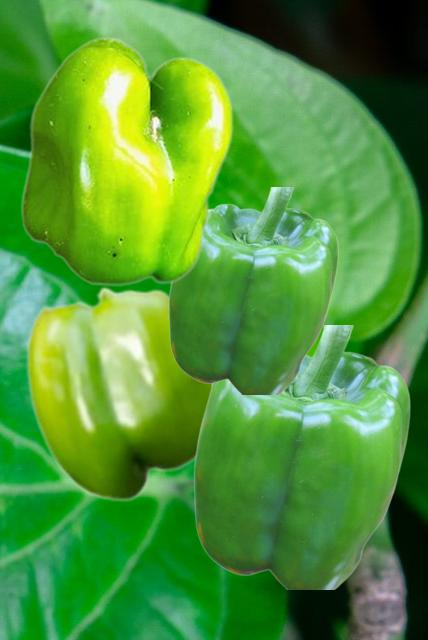bell_pepper: (193, 325, 409, 588), (20, 36, 232, 285), (26, 286, 210, 501), (168, 187, 337, 393)
